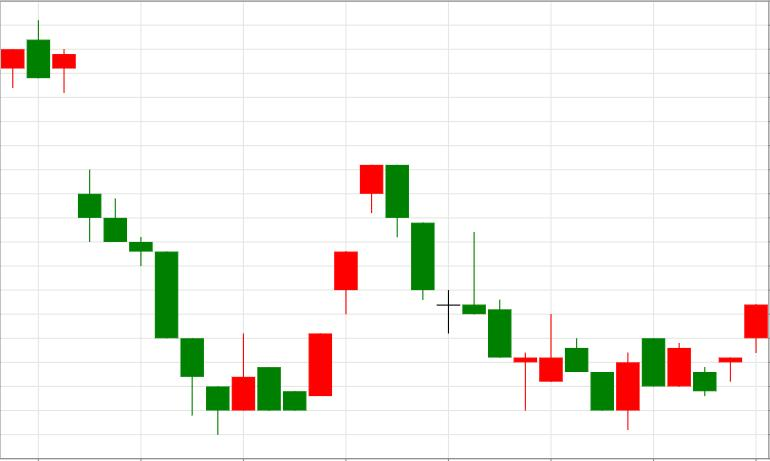bearish_engulfing_fall: (284, 165, 409, 411)
